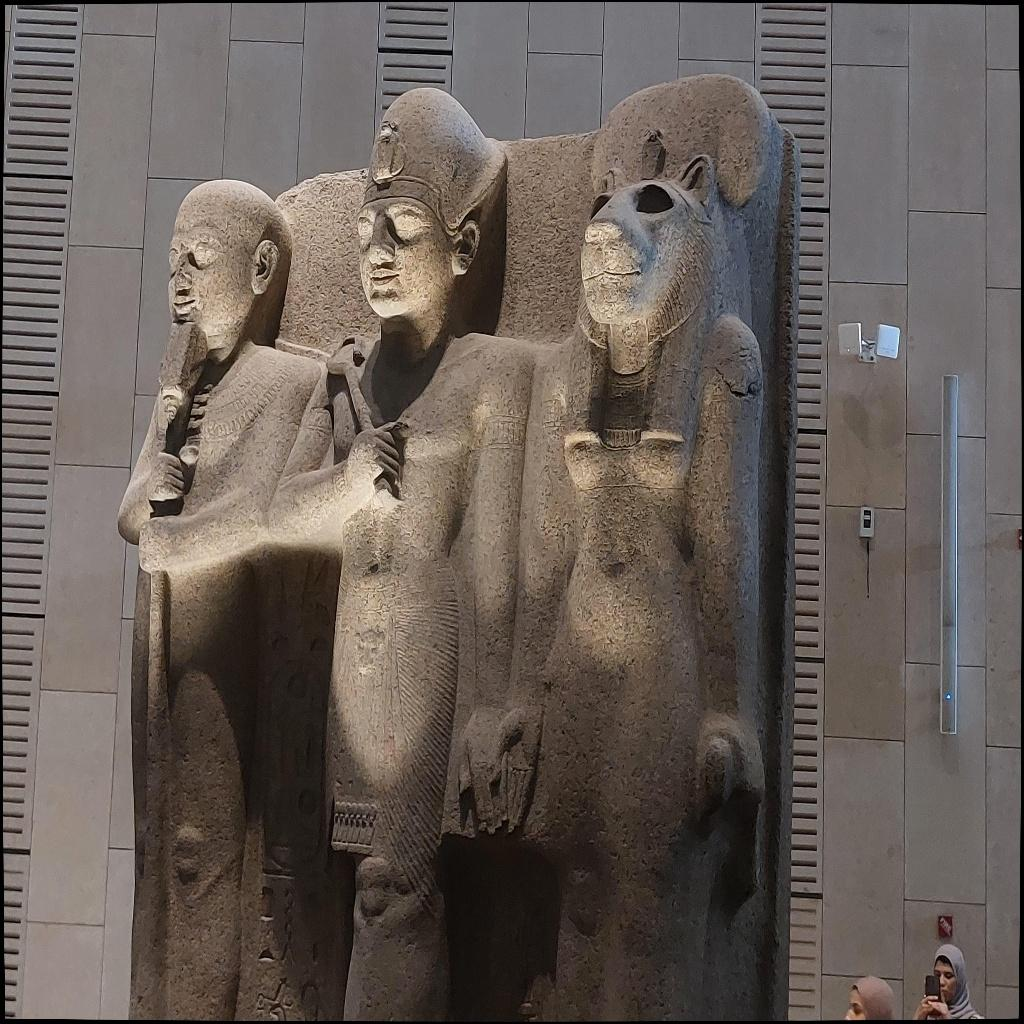Statue of God Ptah Ramesses ll Goddess Sekhmet: (116, 75, 792, 981)
